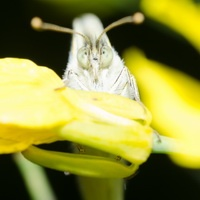insect: (23, 13, 152, 177), (31, 13, 143, 101)
